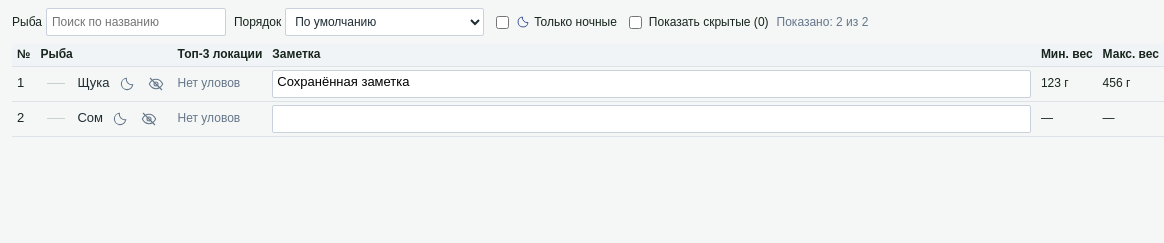
it: failed night update rolls back from false and preserves drafts and Enter/Alt+Enter
Replace the text in the text box named "Заметка — Щука" with "Черновик" at (652, 84), box [272,70,1031,98]
Type "Другой черновик" into the text box named "Заметка — Сом" at (652, 119), box [272,105,1031,133]
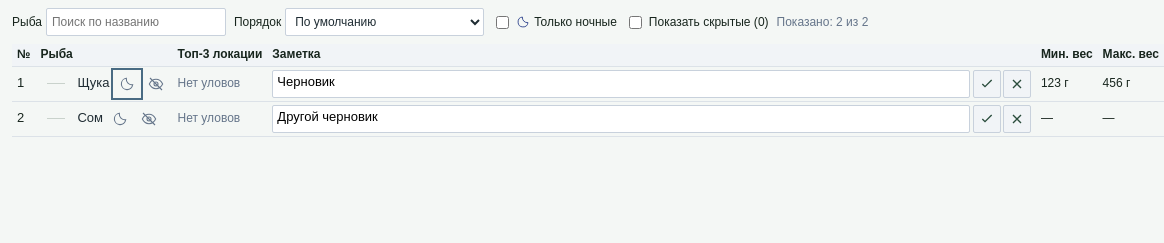
Press Enter
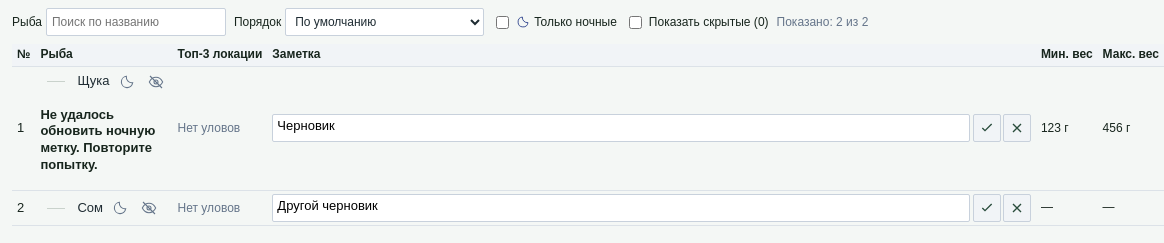
Expected: the button named "Ночная рыба — Щука" is enabled, [115,70,139,94]
Result: the message "Не удалось обновить ночную метку. Повторите попытку." is shown at [40,107,168,174]
Click the text box named "Заметка — Щука" at (621, 128), box [272,114,970,142]
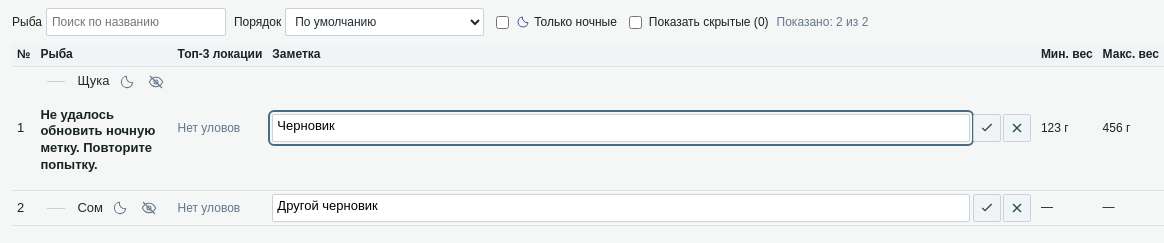
Type keys "{Alt>}{Enter}{/Alt}"
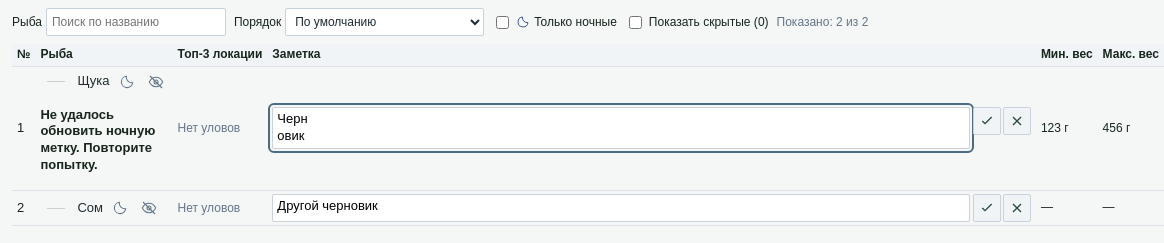
Press Enter
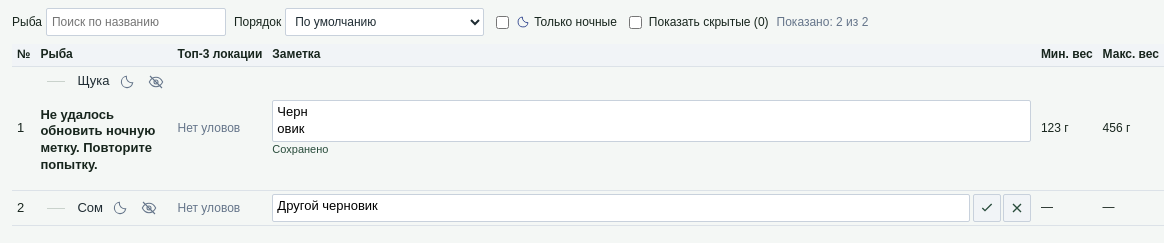
Click the button named "Ночная рыба — Щука" at (127, 82), box [115,70,139,94]
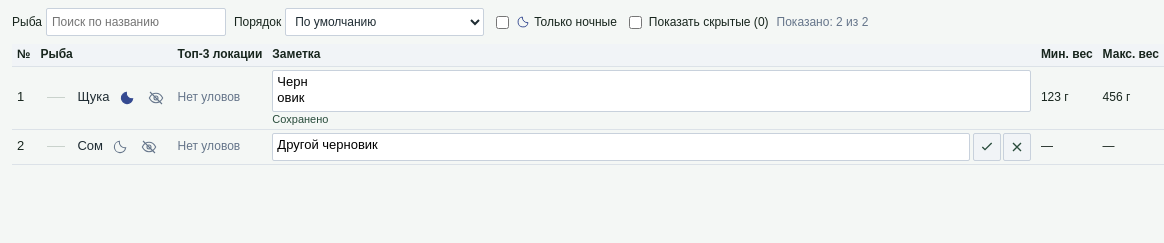
Result: the message "Не удалось обновить ночную метку. Повторите попытку." is gone
